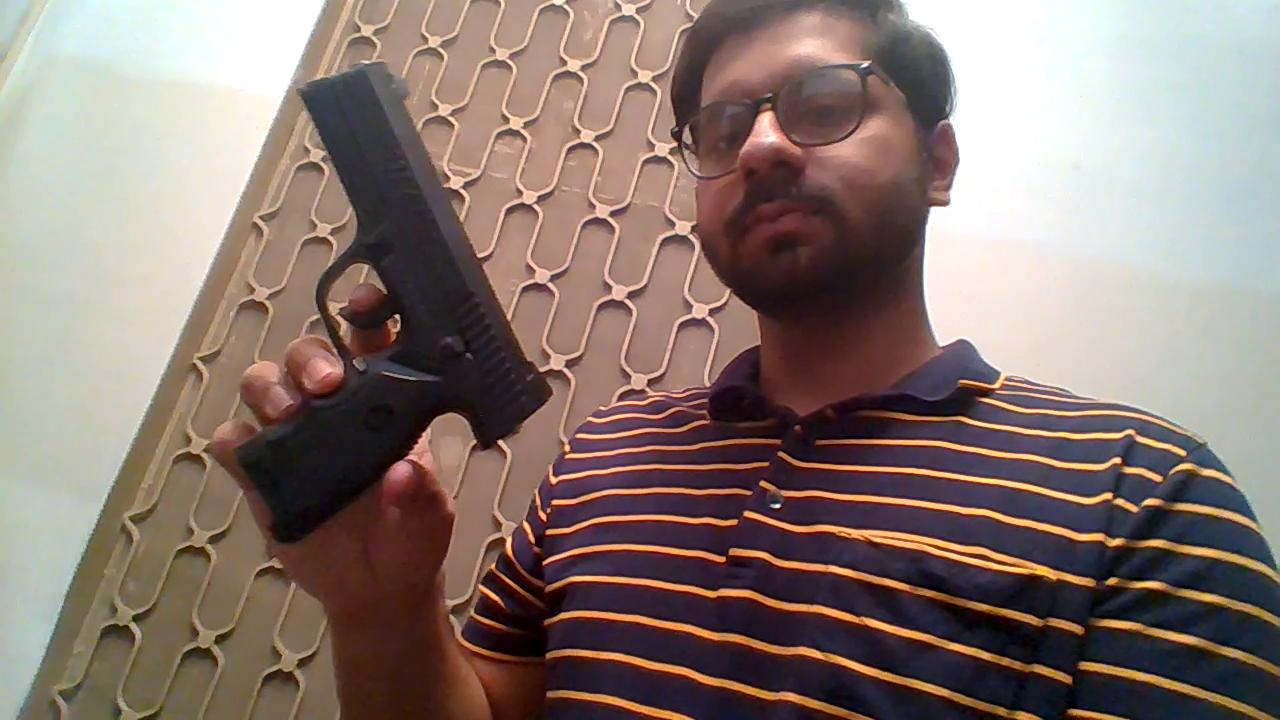criminal: (209, 0, 1280, 720)
weapon: (231, 61, 556, 549)
